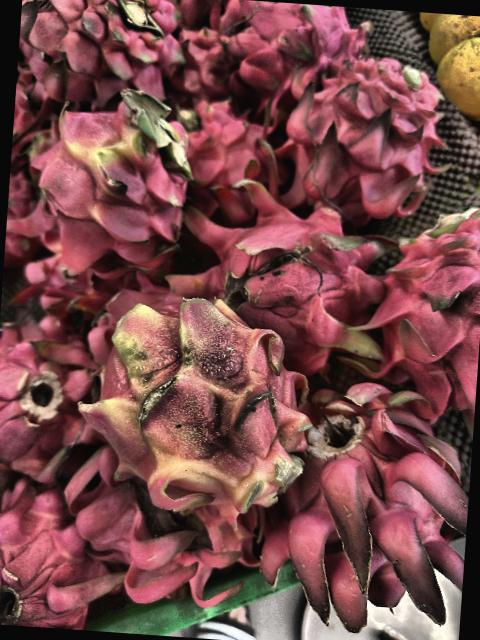buah-naga-belum-matang: (78, 296, 312, 516), (24, 93, 195, 272)
buah-naga-matang: (271, 372, 476, 636), (160, 171, 378, 359), (287, 38, 450, 222), (62, 446, 252, 601), (364, 194, 480, 424), (0, 473, 133, 632), (24, 0, 187, 101), (0, 319, 90, 493), (214, 0, 356, 95), (184, 98, 277, 210), (22, 254, 115, 312), (171, 24, 233, 99)
